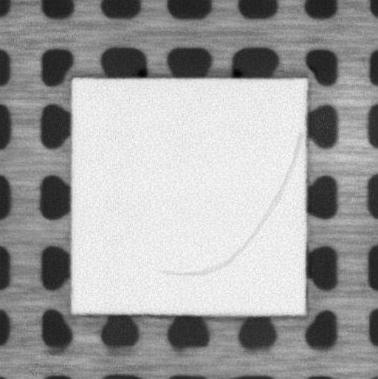DIE_CRACK: (157, 132, 301, 275)
